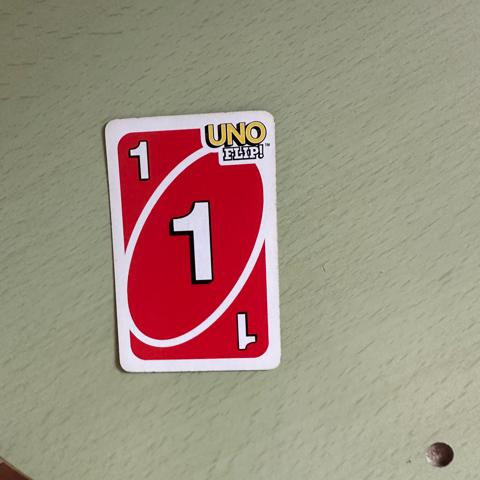lred-1: (111, 128, 171, 195)
